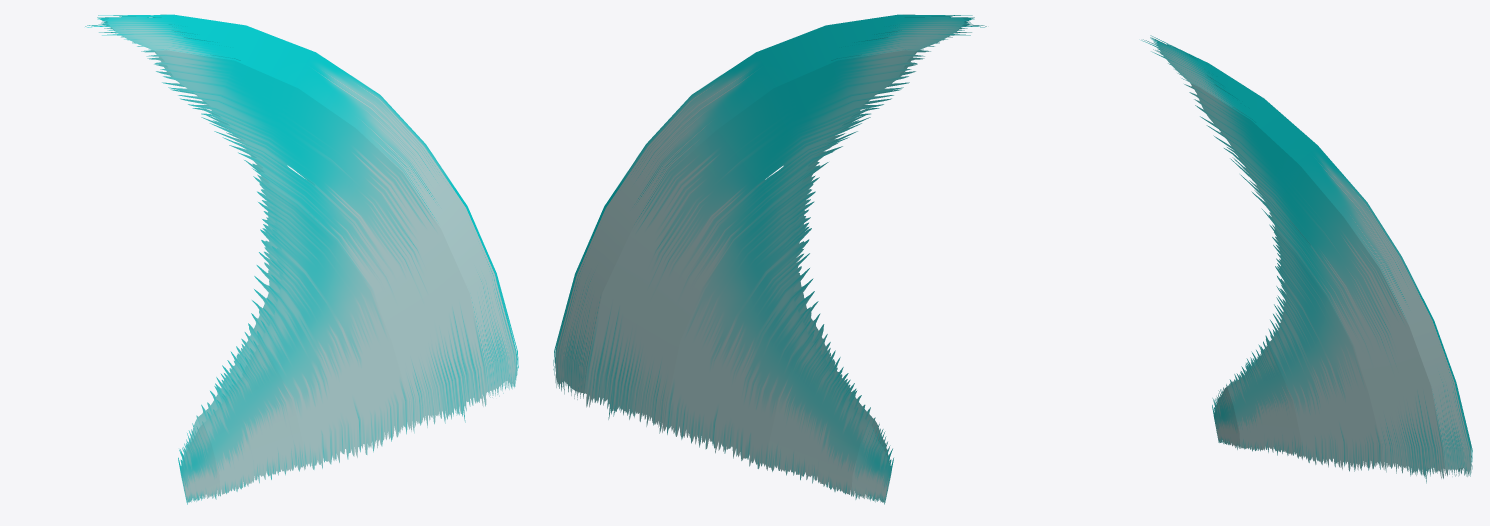
File: zan-zo.fbx
The picture shows the model from 3 angles, left to right: view 1: azimuth 30°, elevation 25°; view 2: azimuth 150°, elevation 25°; view 3: azimuth 330°, elevation 25°; orthographic projection. The views are drawn at different scales.
Parts seen in each view (by area): view 1: zan_zo; view 2: zan_zo; view 3: zan_zo.
Part boxes in pixels (x1=…): zan_zo: x1=85, y1=14, x2=518, y2=504; zan_zo: x1=553, y1=14, x2=986, y2=504; zan_zo: x1=1141, y1=35, x2=1472, y2=483.
Bounding box in the file's own units: 3 × 3 × 0.0951.
